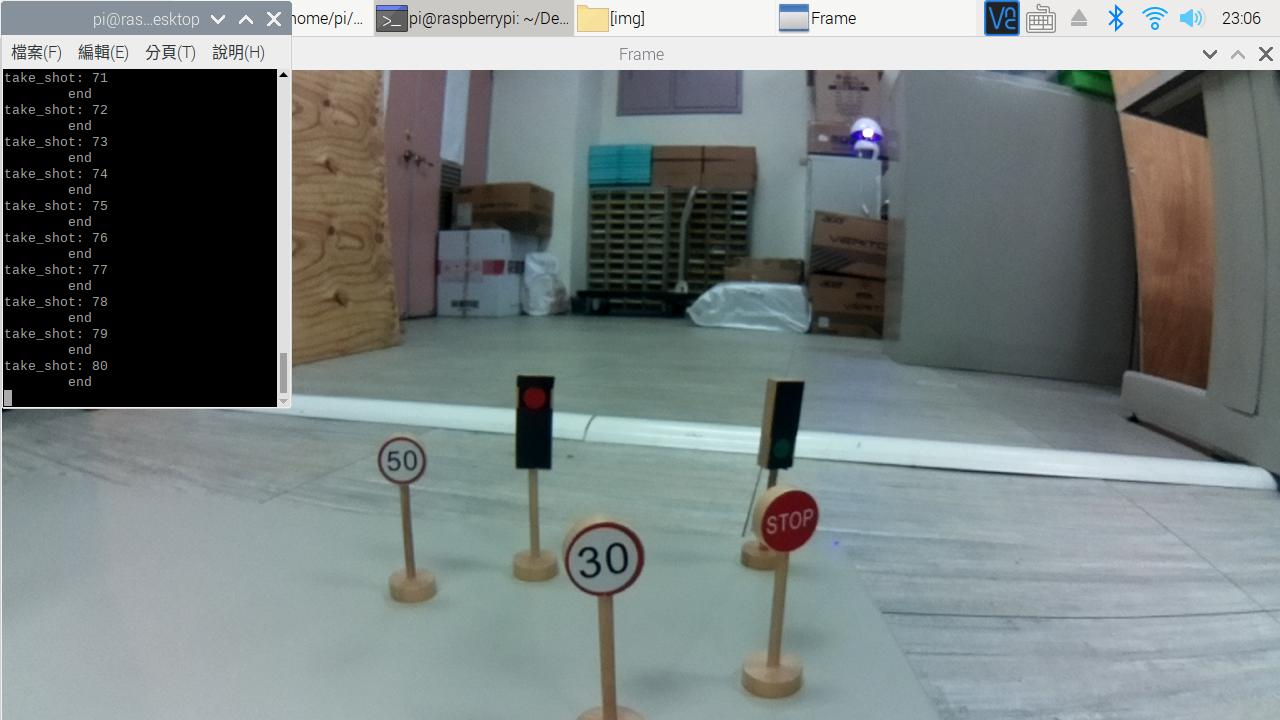Green: (755, 374, 805, 475)
Red: (501, 354, 562, 482)
Speed30: (560, 520, 660, 604)
Speed50: (367, 433, 441, 495)
Stop: (742, 487, 828, 557)
